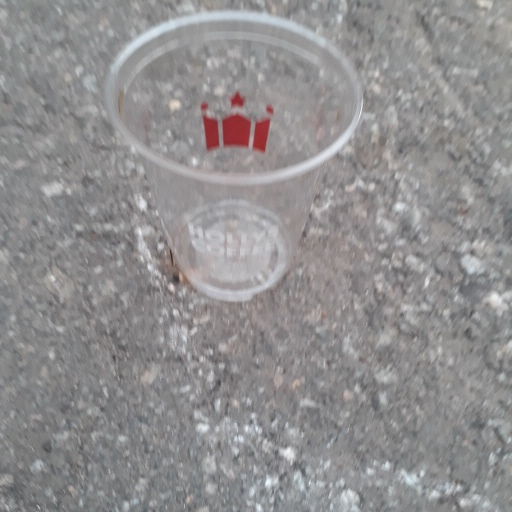Plastic_2: (104, 10, 369, 302)
